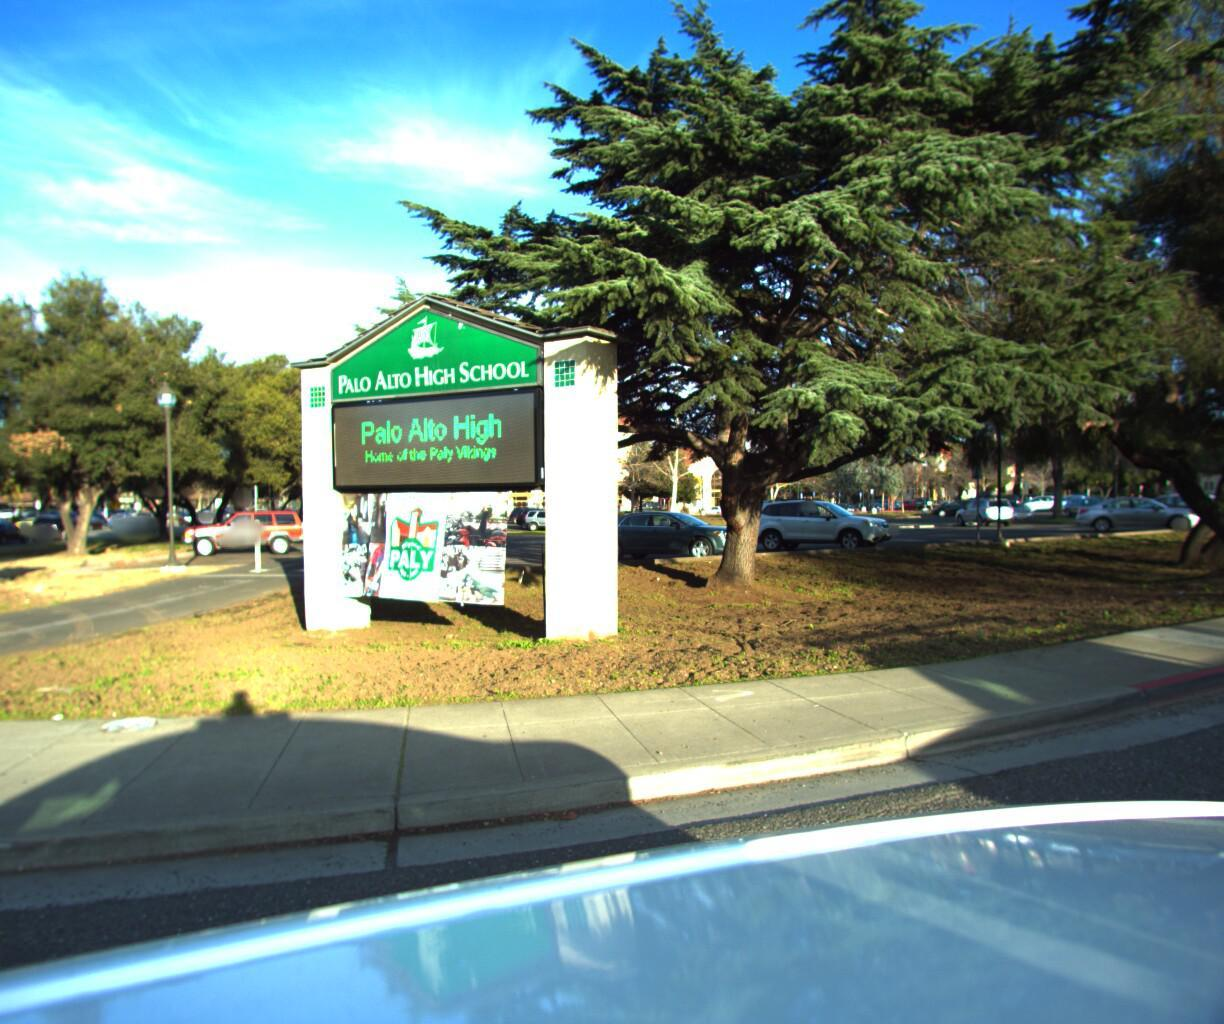car: (27, 513, 96, 543), (0, 513, 45, 549), (119, 508, 167, 533)
